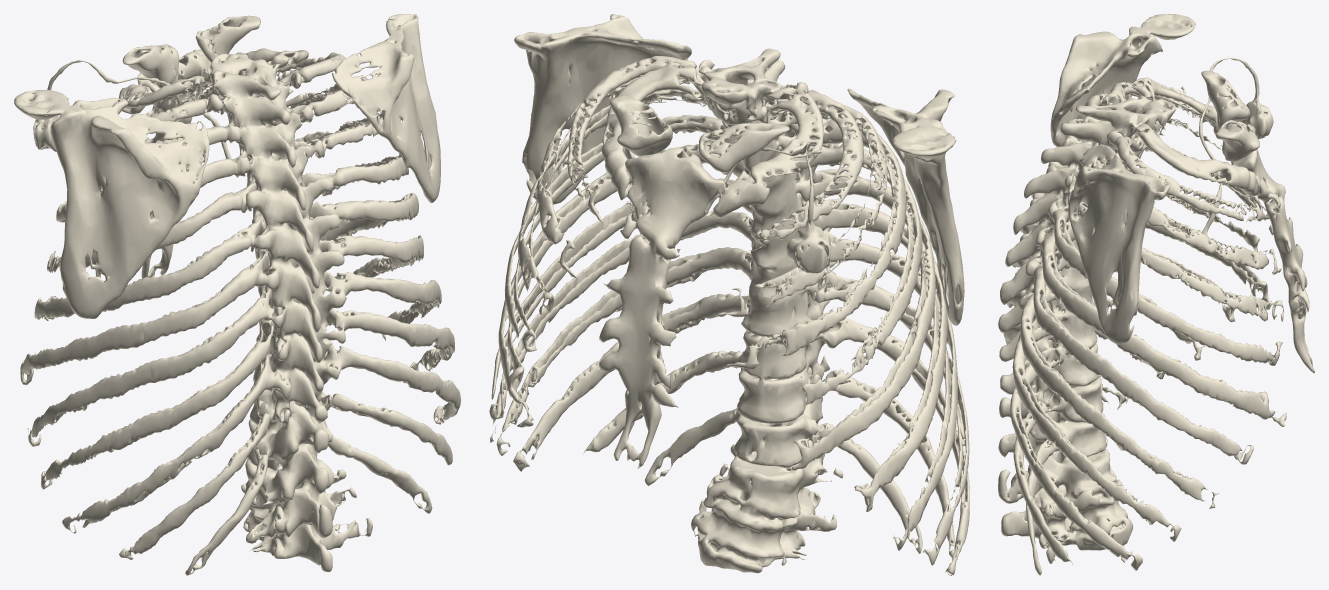
File: tulang-ctchest.glb
3 views of the same model, side by side, from view 1: azimuth 30°, elevation 25°; view 2: azimuth 150°, elevation 25°; view 3: azimuth 270°, elevation 25° (orthographic). The views are drawn at different scales.
Visible parts, largest first — view 1: tulang_threshold_200_3000HU; view 2: tulang_threshold_200_3000HU; view 3: tulang_threshold_200_3000HU.
Part boxes in pixels (x1,y1,x2,y2): tulang_threshold_200_3000HU: (14,14,460,575); tulang_threshold_200_3000HU: (489,14,969,575); tulang_threshold_200_3000HU: (998,14,1314,575).
Bounding box in the file's own units: 326 × 349 × 237.
